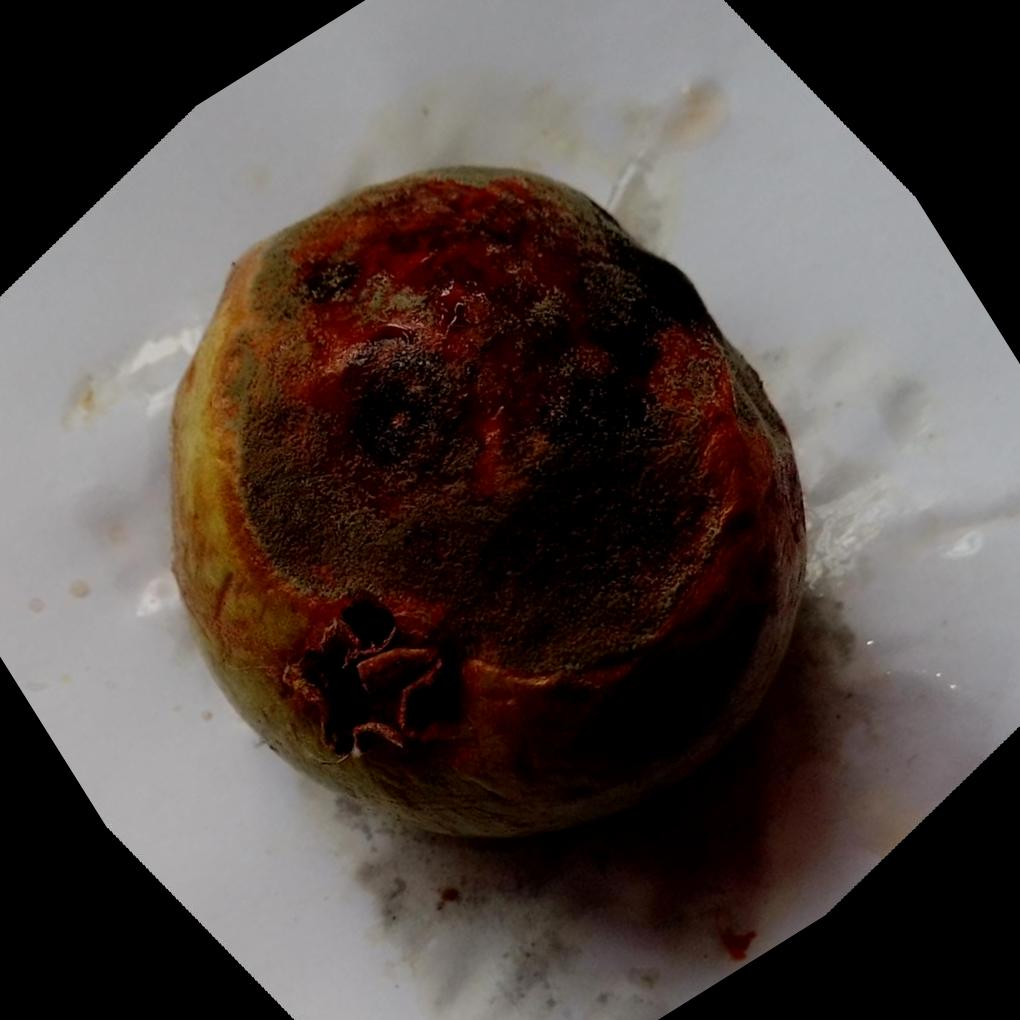FreshOrange: (169, 164, 809, 845)
